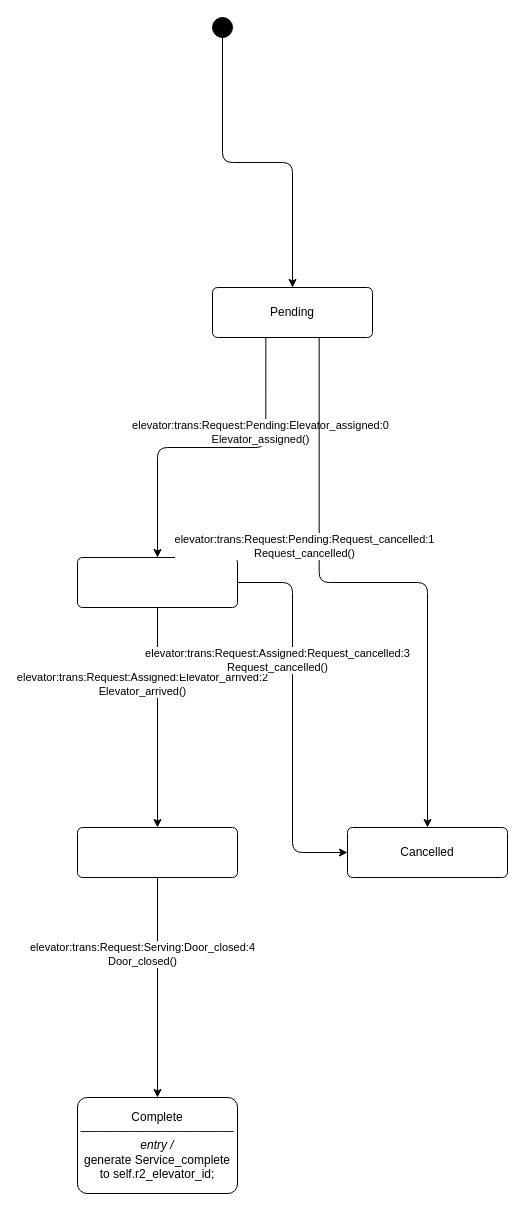
This 525x1211 diagram has some shape labels left out. The shapes that lost their labels are listed below. From the top down, each one's centre as x and y in pixels, then its label:
the point at 157,582: Assigned
the point at 157,852: Serving
